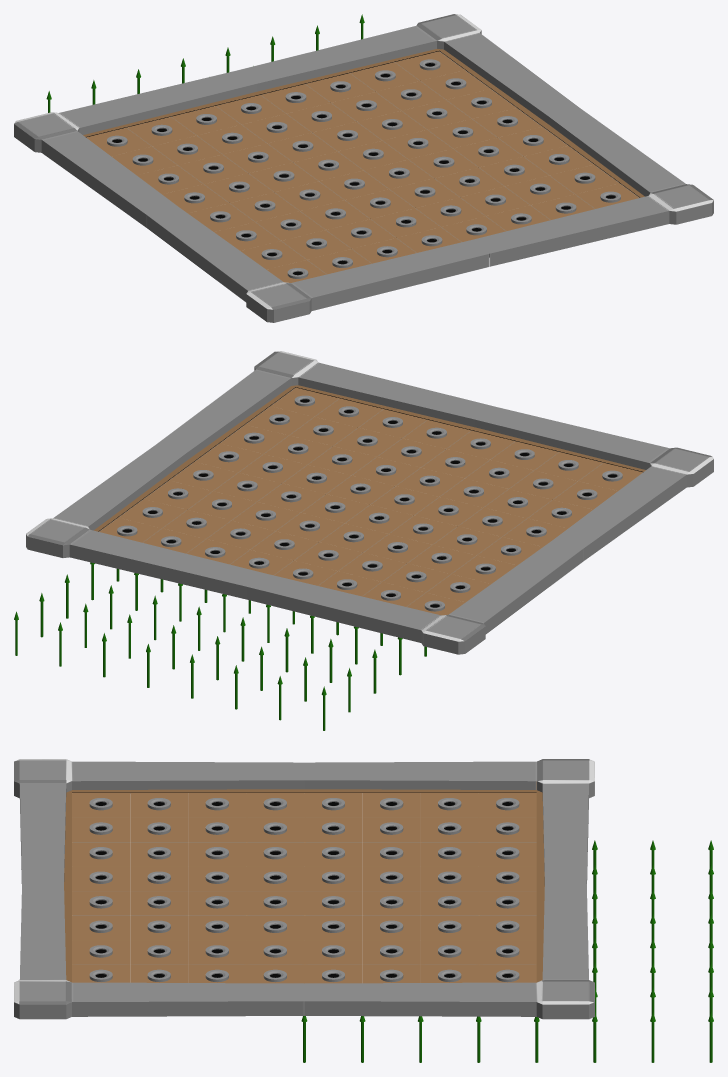
The model's file is HS_SpearTrap.fbx.
3 views of the same model, one above another, from view 1: azimuth 30°, elevation 25°; view 2: azimuth 150°, elevation 25°; view 3: azimuth 270°, elevation 25° (orthographic). The views are drawn at different scales.
Visible parts, largest first — view 1: Base, Spears; view 2: Base, Spears; view 3: Base, Spears.
Boxes of the visible parts, x1,y1,x2,y2 form: Base: (14, 14, 713, 322); Spears: (46, 14, 364, 112); Base: (26, 351, 713, 654); Spears: (14, 562, 426, 730); Base: (14, 759, 594, 1019); Spears: (301, 840, 713, 1062).
Size of the model in its own units: 10 by 1.58 by 12.05.
